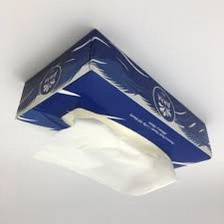book: (9, 22, 217, 176)
tissue: (26, 111, 182, 203)
